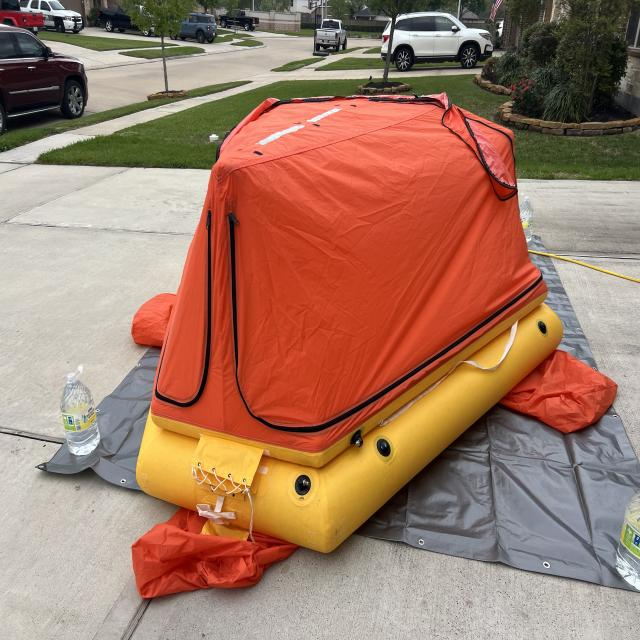Multi-person_life_raft: (132, 98, 618, 599)
